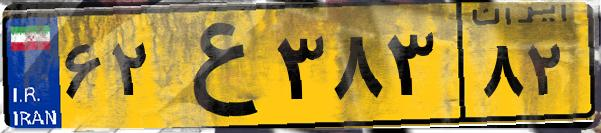2: (525, 38, 570, 115), (110, 28, 158, 98)
3: (270, 28, 330, 110), (385, 28, 445, 110)
6: (57, 26, 110, 100)
8: (330, 28, 385, 110), (475, 38, 525, 113)
ع: (158, 12, 270, 120)
